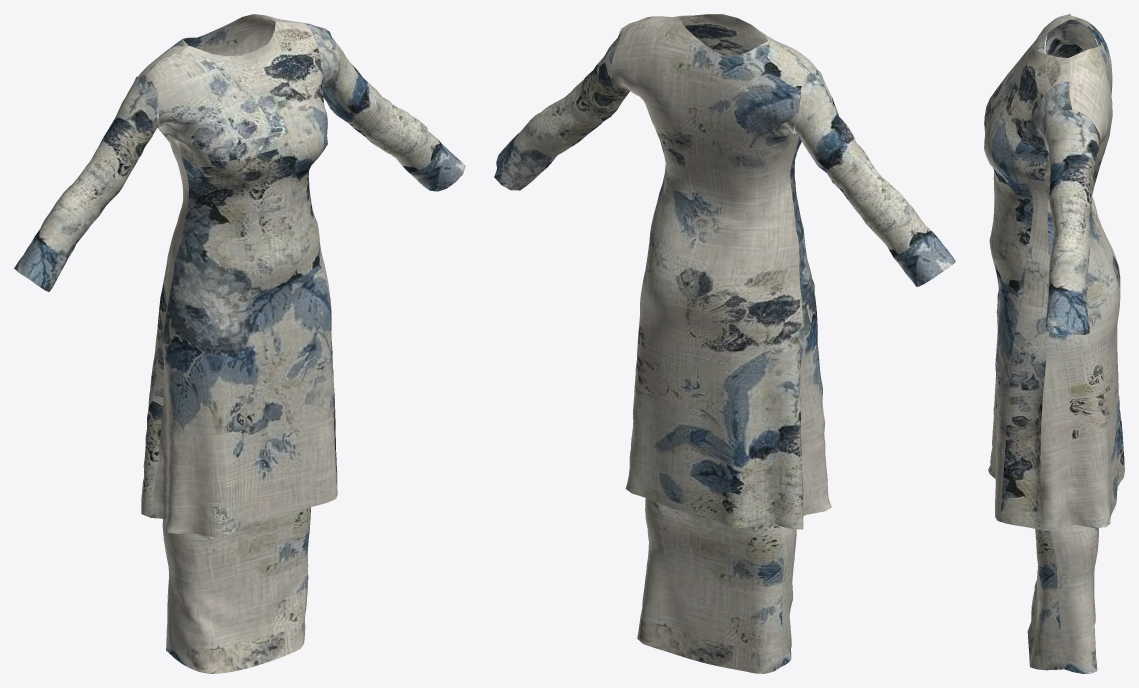
The model's file is floral.glb.
3 views of the same model, side by side, from view 1: azimuth 30°, elevation 25°; view 2: azimuth 150°, elevation 25°; view 3: azimuth 270°, elevation 25° (orthographic). The views are drawn at different scales.
Visible parts, largest first — view 1: floral; view 2: floral; view 3: floral.
Boxes of the visible parts, x1,y1,x2,y2 form: floral: [14, 14, 465, 673]; floral: [494, 14, 955, 673]; floral: [984, 14, 1124, 673].
Bounding box in the file's own units: 0.9476 × 1.27 × 0.2645.
Materials: 1 (1 with a texture image).
